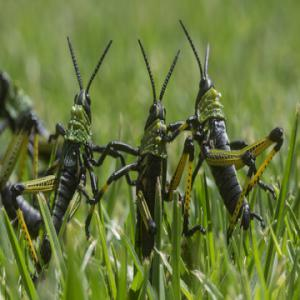locust: (14, 27, 116, 266), (186, 19, 278, 239), (129, 33, 183, 258)
